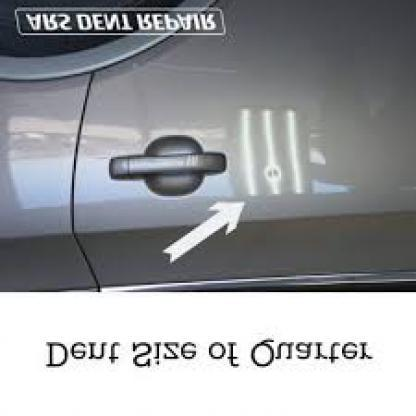dent: (257, 156, 288, 186)
